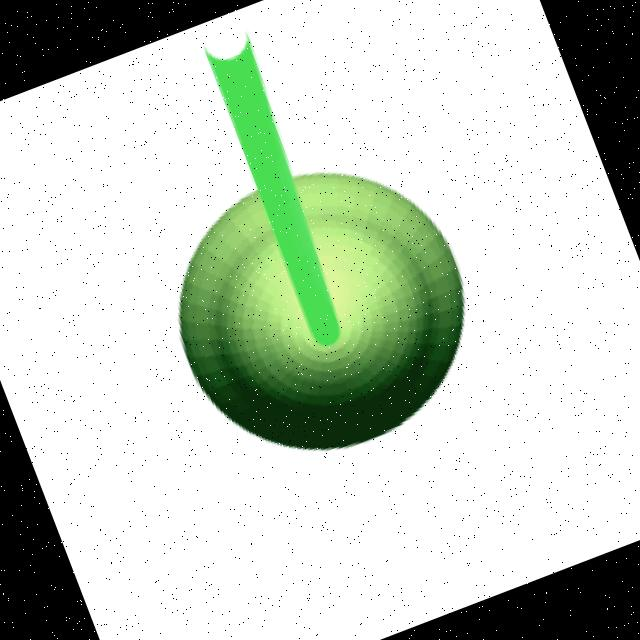fruit: (181, 170, 467, 448)
peduncle: (208, 38, 345, 344)
